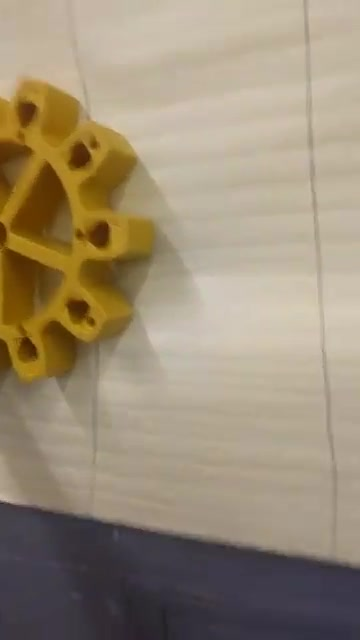gear: (1, 81, 157, 383)
